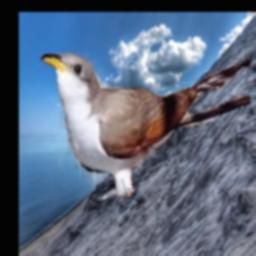Cuckoo: (41, 53, 251, 200)
